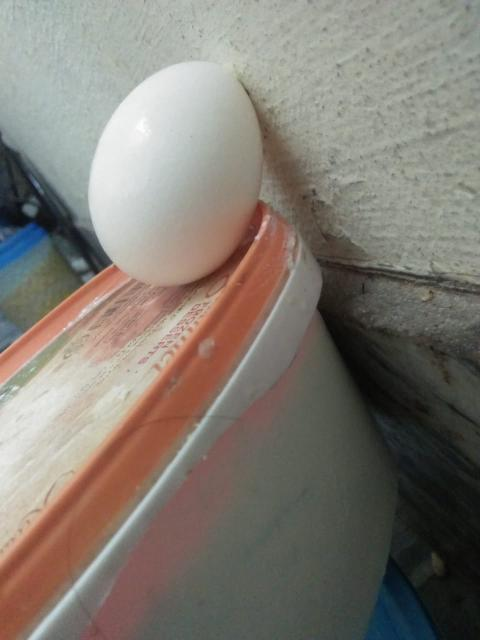Sano: (86, 59, 264, 287)
